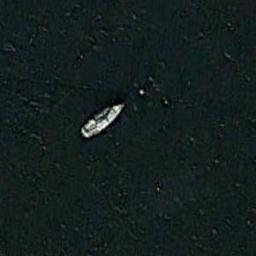boat: (78, 101, 129, 138)
